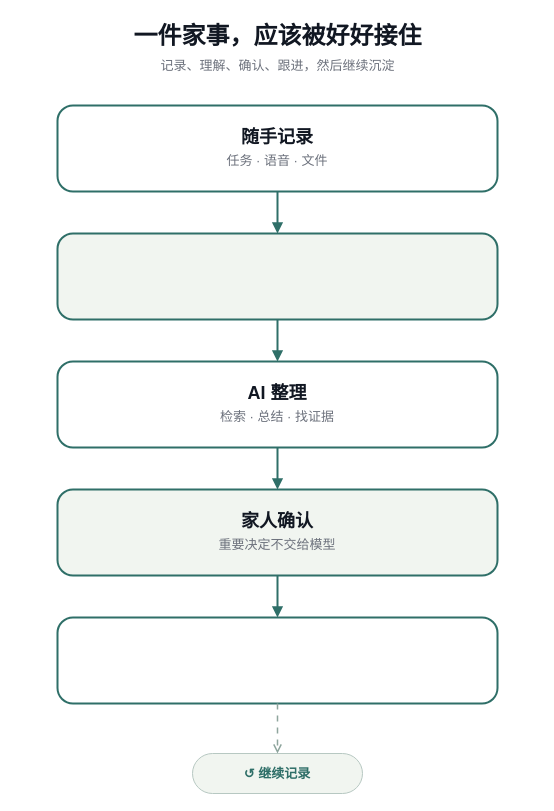
This 554x811 diagram has some shape labels left out. The shapes that lost their labels are listed below. From the top down, each one's centre as x and y in pixels, then its label:
At pixel 277 276: "家庭时间线 什么时候 · 谁 · 什么事".
At pixel 277 660: "提醒与跟进 今天做完，明天还记得".
